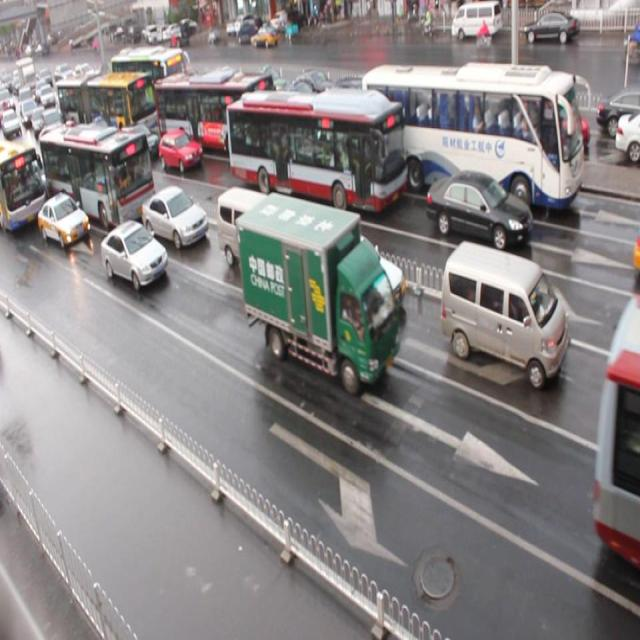bus: (240, 192, 398, 392)
car: (300, 228, 404, 321), (425, 168, 531, 252), (102, 220, 168, 288), (141, 185, 208, 250), (36, 187, 88, 243), (159, 128, 202, 172), (116, 123, 160, 164)
truck: (440, 240, 568, 386), (216, 186, 292, 276)
van: (360, 63, 584, 208), (225, 87, 406, 214), (592, 289, 640, 572), (38, 121, 156, 232), (154, 70, 274, 160), (58, 71, 158, 132), (1, 134, 46, 226)
